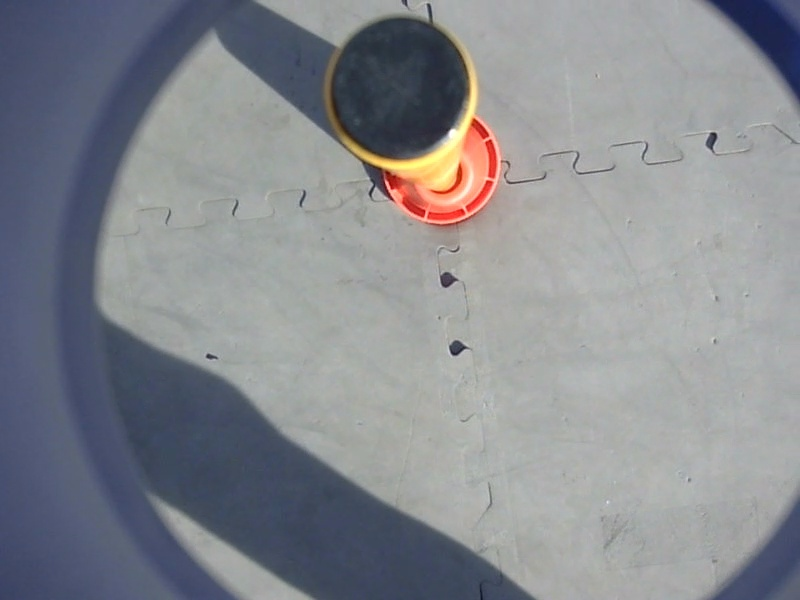tip: (318, 10, 487, 176)
